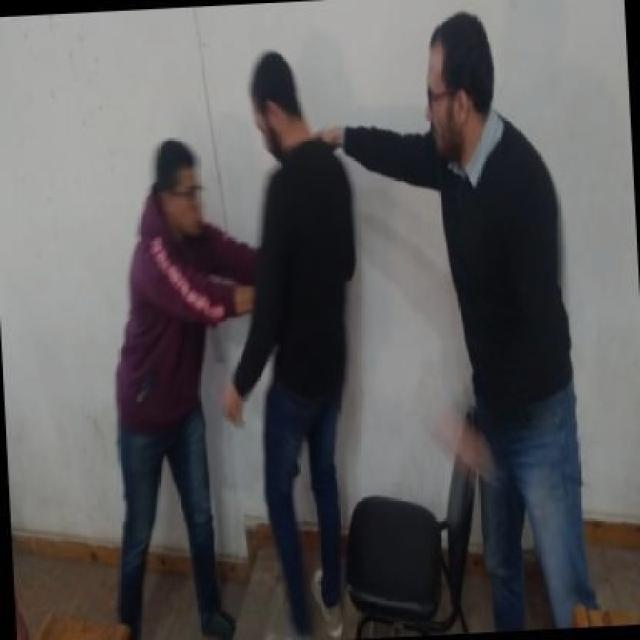fight: (112, 0, 637, 638)
